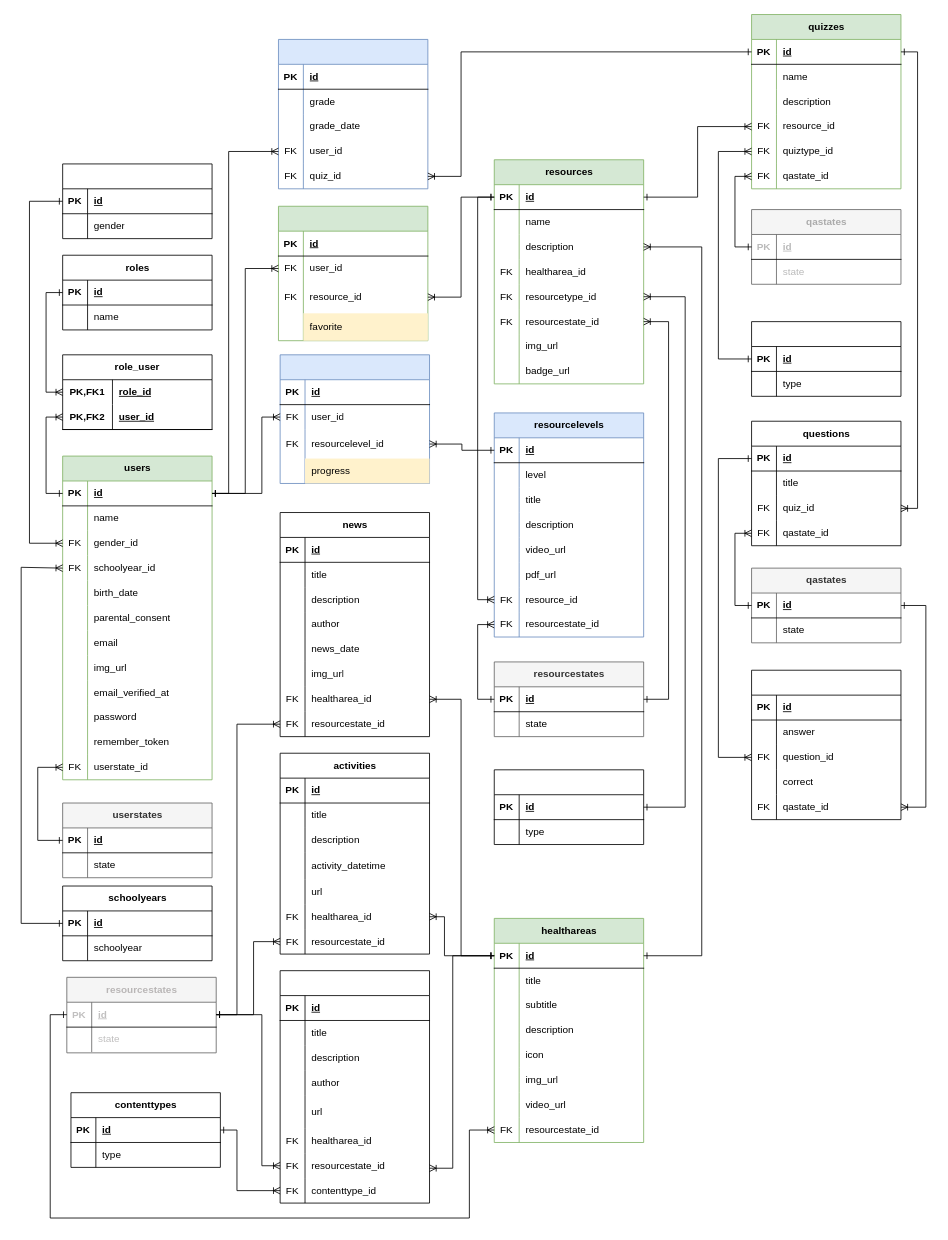
The diagram is 948 pixels wide and 1240 high, and some of its shapes have lost their labels. Each missing label, with the box of its shape:
answers: (751, 669, 901, 820)
contents: (279, 970, 430, 1203)
genders: (62, 163, 212, 239)
quiz_user: (278, 39, 428, 189)
quiztypes: (751, 321, 901, 396)
resource_user: (278, 205, 428, 341)
resourcelevel_user: (279, 354, 430, 483)
resourcetypes: (493, 769, 644, 845)
